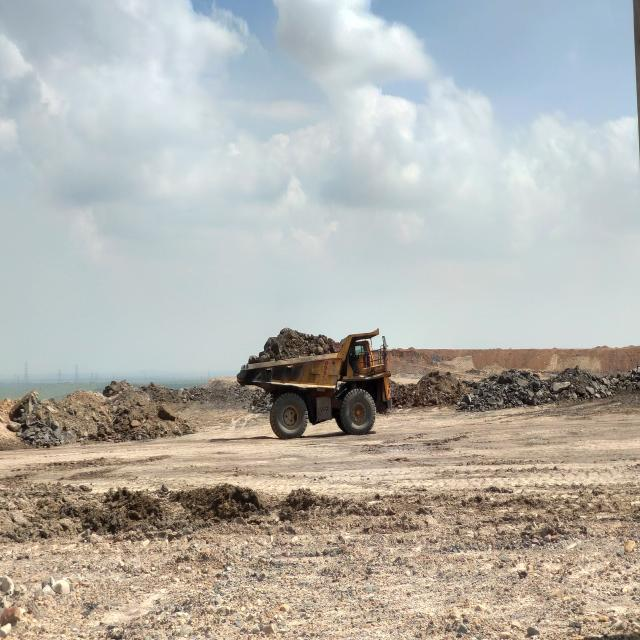dump_truck: (234, 331, 392, 441)
